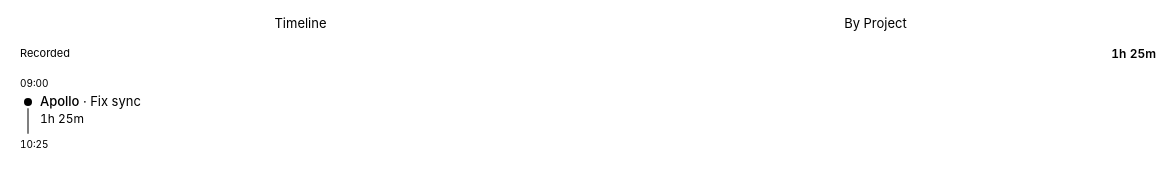
ActivityTab › the view switch › shows the timeline by default and By Project after switching
The image size is (1176, 172).
Check: the list named "Timeline" is shown, box [20,77,141,150]
Click the button "By Project" at [876, 23], box [589,14,1162,32]
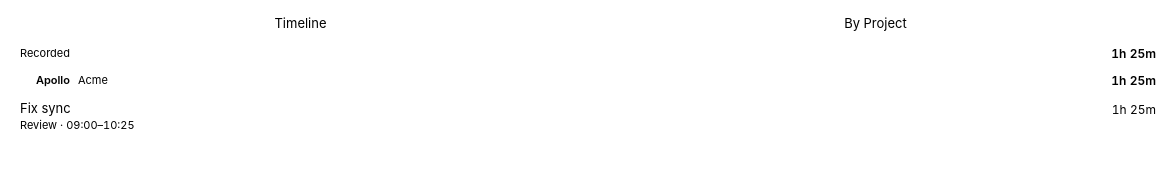
Check: the element "Apollo" is shown, box [12,73,1164,136]
Check: the text "Review · 09:00–10:25" is shown, box [20,118,135,132]
